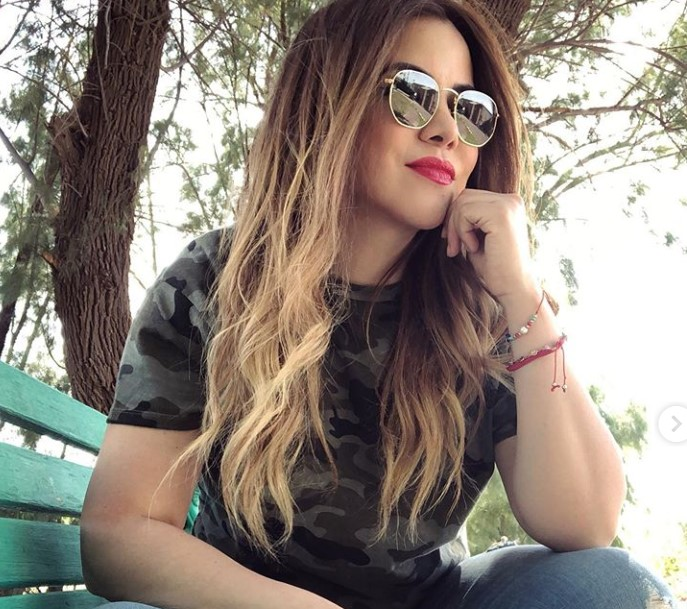face_no_mask: (301, 1, 498, 245)
